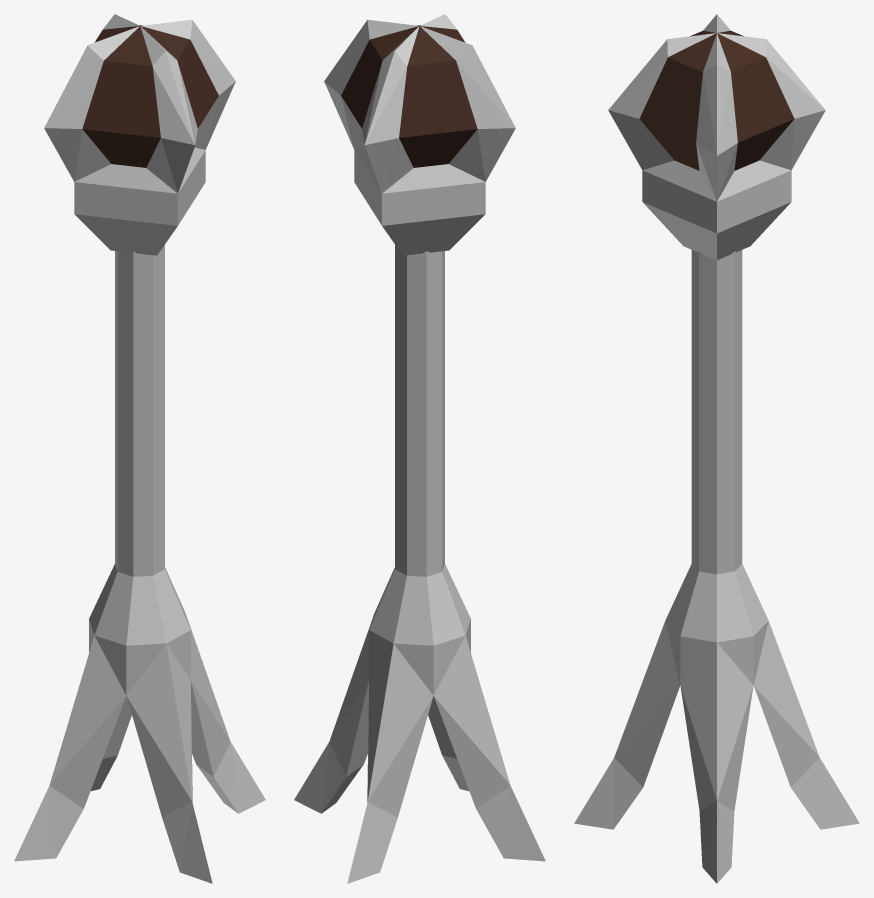
The model's file is ORC_FIREPLACE_V2.OBJ.
3 renders of one model, left to right at view 1: azimuth 30°, elevation 25°; view 2: azimuth 150°, elevation 25°; view 3: azimuth 270°, elevation 25°, orthographic.
Parts seen in each view (by area): view 1: ORC_FIREPLACE_V2; view 2: ORC_FIREPLACE_V2; view 3: ORC_FIREPLACE_V2.
Part boxes in pixels (left/top/right/bottom): ORC_FIREPLACE_V2: left=14, top=14, right=265, bottom=883; ORC_FIREPLACE_V2: left=294, top=14, right=545, bottom=883; ORC_FIREPLACE_V2: left=574, top=14, right=859, bottom=883.
Size of the model in its own units: 0.7958 by 2.43 by 0.7958.
